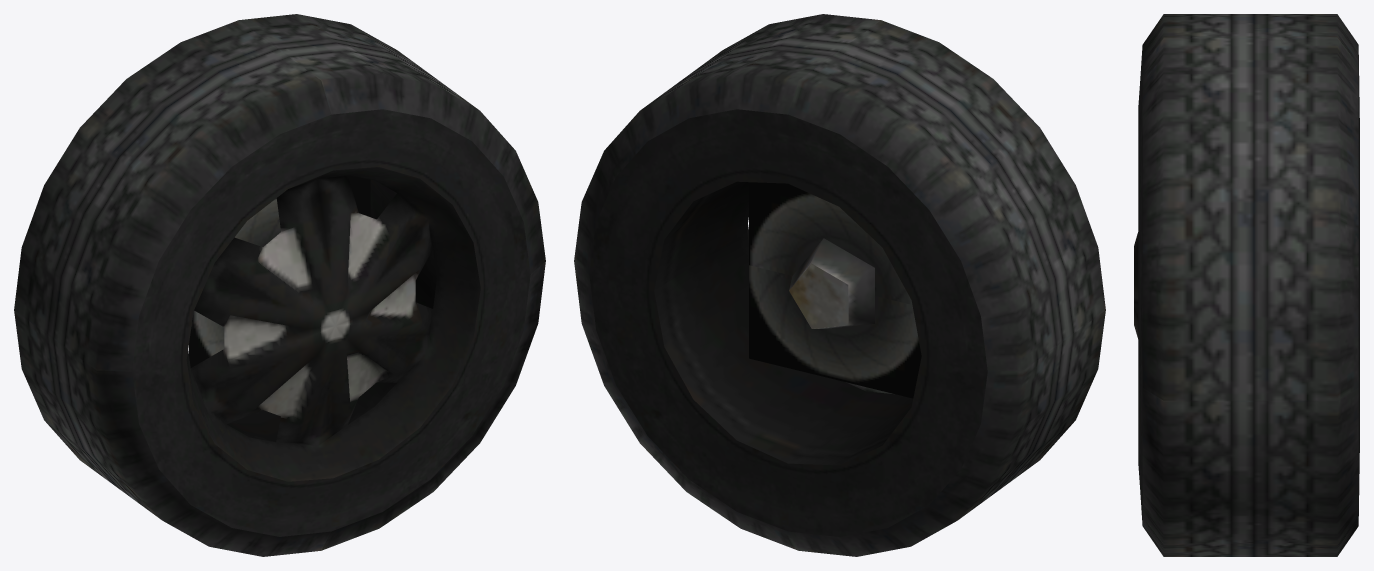
The model's file is v_a_classicmuscle_Wheels_14_SkeletalMesh3_SkeletalMesh_1.psk.glb.
3 renders of one model, left to right at view 1: azimuth 30°, elevation 25°; view 2: azimuth 150°, elevation 25°; view 3: azimuth 270°, elevation 25°, orthographic. The views are drawn at different scales.
Bounding box in the file's own units: 67.84 × 67.84 × 28.11.
1 material, 1 textured.
